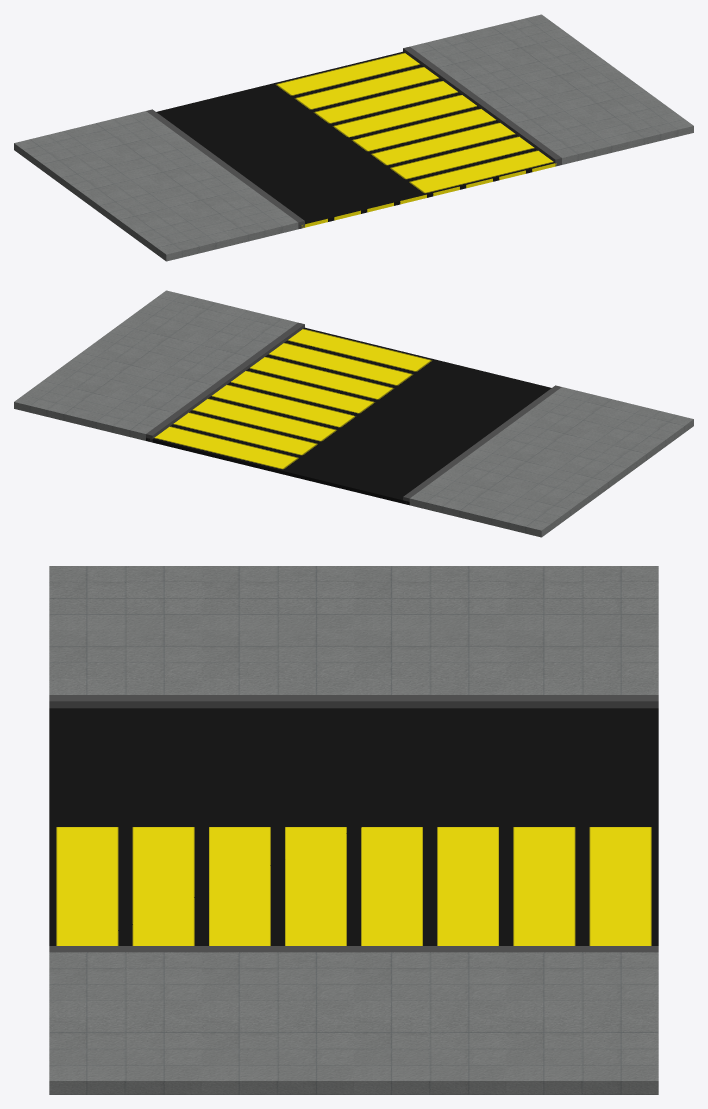
File: RoadStraight_1x2.fbx
The picture shows the model from 3 angles, top to bottom: view 1: azimuth 30°, elevation 25°; view 2: azimuth 150°, elevation 25°; view 3: azimuth 270°, elevation 25°; orthographic projection. The views are drawn at different scales.
Visible parts, largest first — view 1: RoadStraight 1x2.001; view 2: RoadStraight 1x2.001; view 3: RoadStraight 1x2.001.
Boxes of the visible parts, box(x1,y1,x2,y2) form: RoadStraight 1x2.001: box(14, 14, 693, 261); RoadStraight 1x2.001: box(14, 290, 693, 537); RoadStraight 1x2.001: box(49, 566, 658, 1094).
Bounding box in the file's own units: 16 × 0.2 × 8.
